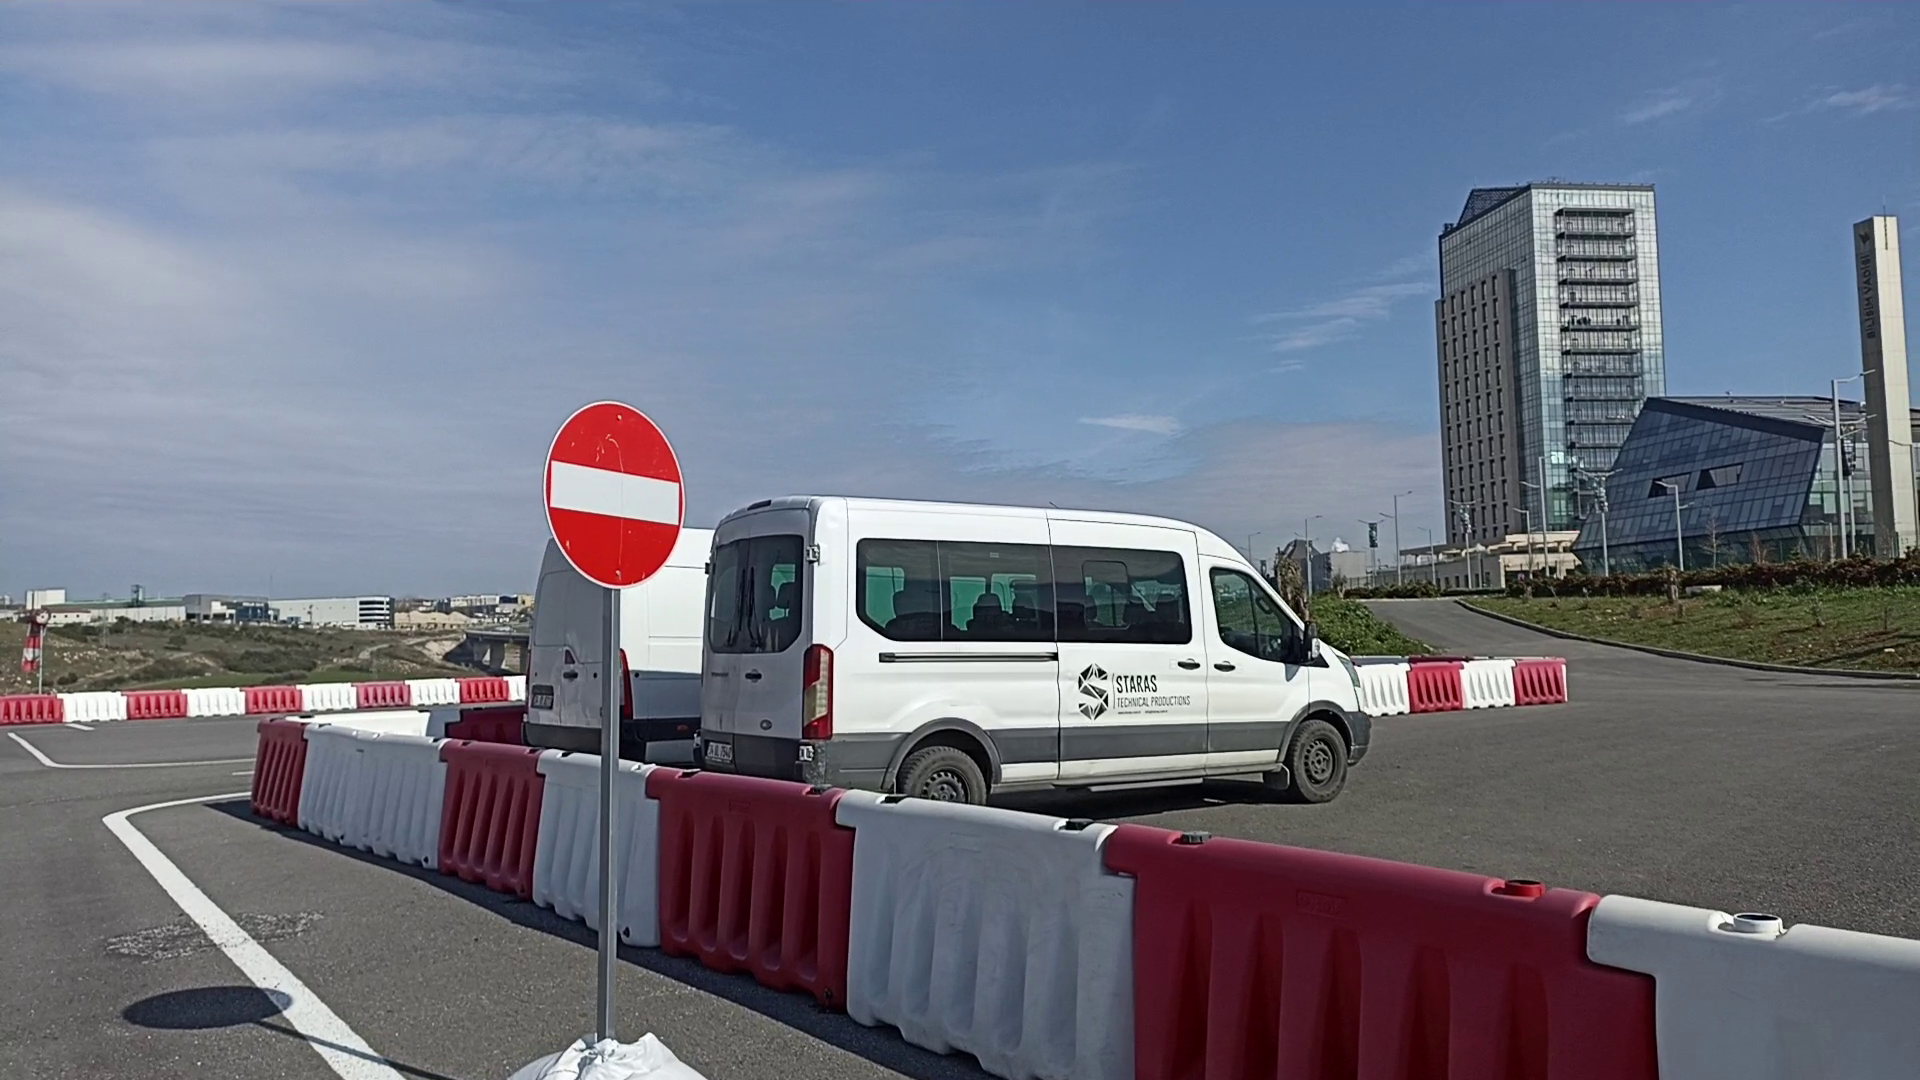noentryway: (541, 400, 690, 592)
